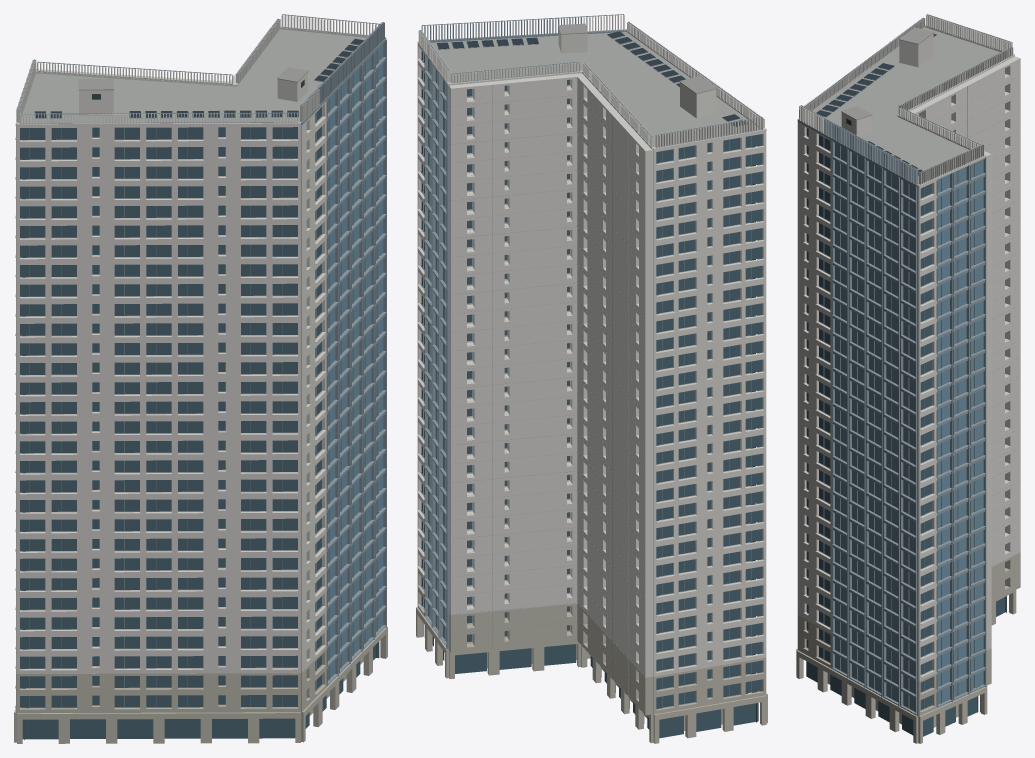
File: bespoke-maple-xi-107.glb
3 views of the same model, side by side, from view 1: azimuth 30°, elevation 25°; view 2: azimuth 150°, elevation 25°; view 3: azimuth 270°, elevation 25° (orthographic). The views are drawn at different scales.
Parts seen in each view (by area): view 1: Maple107_numbered_plan_inset_body, Maple107_e0_end_glass, Maple107_e0_end_unequal_sash, Maple107_e3_dark_glass, Maple107_recessed_stone_lobby, Maple107_numbered_plan_roof, Maple107_PV_cells, Maple107_e1_cladding_joint; view 2: Maple107_numbered_plan_inset_body, Maple107_e0_end_glass, Maple107_e0_end_unequal_sash, Maple107_recessed_stone_lobby, Maple107_numbered_plan_roof, Maple107_e1_cladding_joint, Maple107_e3_dark_glass, Maple107_PV_cells; view 3: Maple107_numbered_plan_inset_body, Maple107_e0_end_unequal_sash, Maple107_e3_dark_glass, Maple107_e0_end_glass, Maple107_numbered_plan_roof, Maple107_recessed_stone_lobby, Maple107_e1_cladding_joint, Maple107_PV_cells.
Part boxes in pixels (x1,y1,x2,y2): Maple107_numbered_plan_inset_body: (15, 14, 385, 708); Maple107_e0_end_glass: (20, 61, 379, 739); Maple107_e0_end_unequal_sash: (17, 14, 386, 707); Maple107_e3_dark_glass: (327, 44, 383, 680); Maple107_recessed_stone_lobby: (14, 587, 387, 743); Maple107_numbered_plan_roof: (19, 29, 366, 123); Maple107_PV_cells: (34, 38, 363, 117); Maple107_e1_cladding_joint: (78, 67, 375, 673); Maple107_numbered_plan_inset_body: (417, 14, 766, 708); Maple107_e0_end_glass: (421, 51, 762, 738); Maple107_e0_end_unequal_sash: (420, 14, 762, 707); Maple107_recessed_stone_lobby: (416, 570, 767, 743); Maple107_numbered_plan_roof: (431, 32, 760, 147); Maple107_e1_cladding_joint: (451, 23, 717, 710); Maple107_e3_dark_glass: (420, 58, 446, 640); Maple107_PV_cells: (437, 31, 747, 126); Maple107_numbered_plan_inset_body: (797, 14, 1020, 694); Maple107_e0_end_unequal_sash: (797, 14, 1011, 716); Maple107_e3_dark_glass: (835, 143, 983, 711); Maple107_e0_end_glass: (806, 128, 1006, 736); Maple107_numbered_plan_roof: (812, 27, 1000, 184); Maple107_recessed_stone_lobby: (796, 552, 1020, 743); Maple107_e1_cladding_joint: (833, 27, 1019, 713); Maple107_PV_cells: (816, 34, 936, 175).
Size of the model in its own units: 61.72 by 103 by 36.11.
